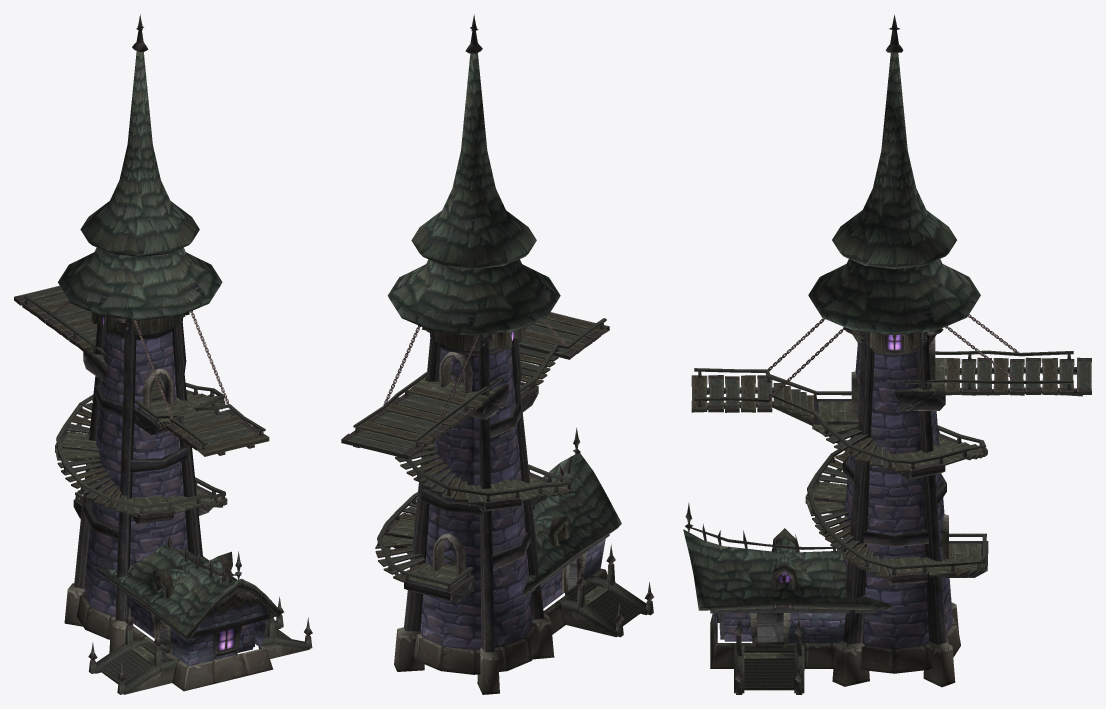
File: lorderonzeppelin02.obj
3 views of the same model, side by side, from view 1: azimuth 30°, elevation 25°; view 2: azimuth 150°, elevation 25°; view 3: azimuth 270°, elevation 25° (orthographic). The views are drawn at different scales.
Visible parts, largest first — view 1: zeppelintower; view 2: zeppelintower; view 3: zeppelintower.
Boxes of the visible parts, box(x1,y1,x2,y2) form: zeppelintower: box(14, 14, 312, 694); zeppelintower: box(341, 14, 654, 694); zeppelintower: box(683, 14, 1091, 694).
Bounding box in the file's own units: 33.64 × 103 × 58.91.
Materials: 19 (19 with a texture image).
